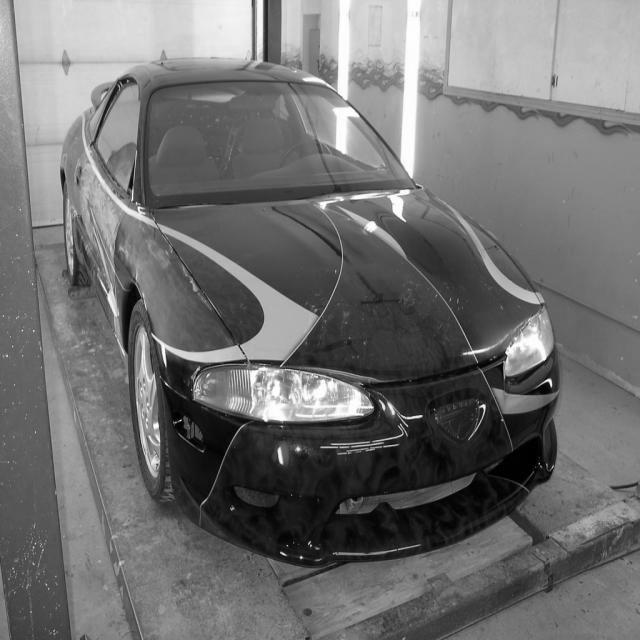Sedan: (60, 57, 561, 572)
